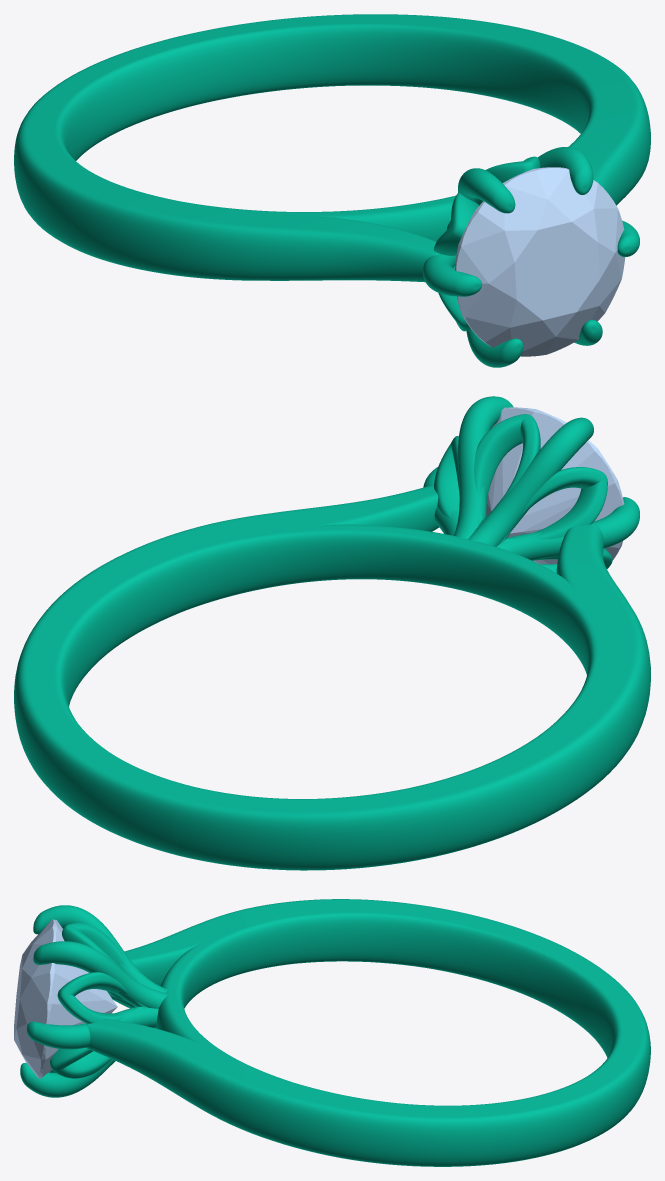
3 renders of one model, top to bottom at view 1: azimuth 30°, elevation 25°; view 2: azimuth 150°, elevation 25°; view 3: azimuth 270°, elevation 25°, orthographic. The views are drawn at different scales.
Visible parts, largest first — view 1: JTC 13688(base).3dm, Diamond_Round; view 2: JTC 13688(base).3dm, Diamond_Round; view 3: JTC 13688(base).3dm, Diamond_Round.
Part boxes in pixels (box(x1,y1,x2,y2)): JTC 13688(base).3dm: box(14, 14, 650, 367); Diamond_Round: box(454, 167, 625, 356); JTC 13688(base).3dm: box(14, 396, 650, 870); Diamond_Round: box(486, 407, 624, 564); JTC 13688(base).3dm: box(20, 899, 650, 1166); Diamond_Round: box(14, 919, 117, 1078).
Bounding box in the file's own units: 2.49 × 0.8206 × 3.02.
